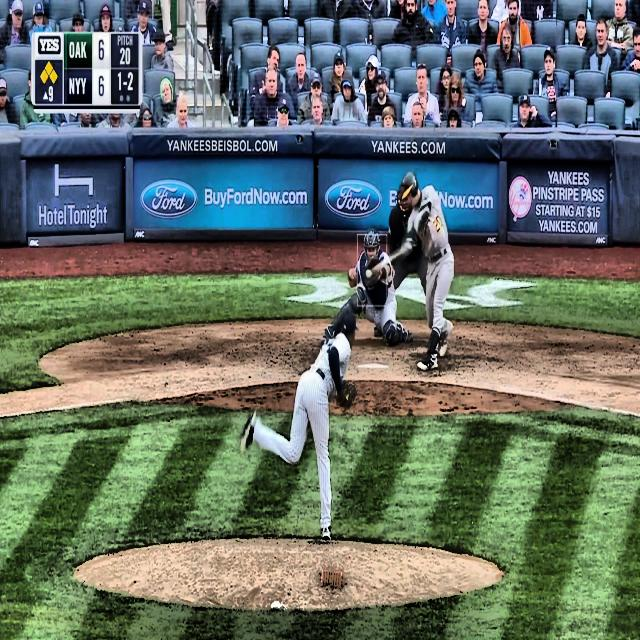baseball: (365, 268, 372, 280)
